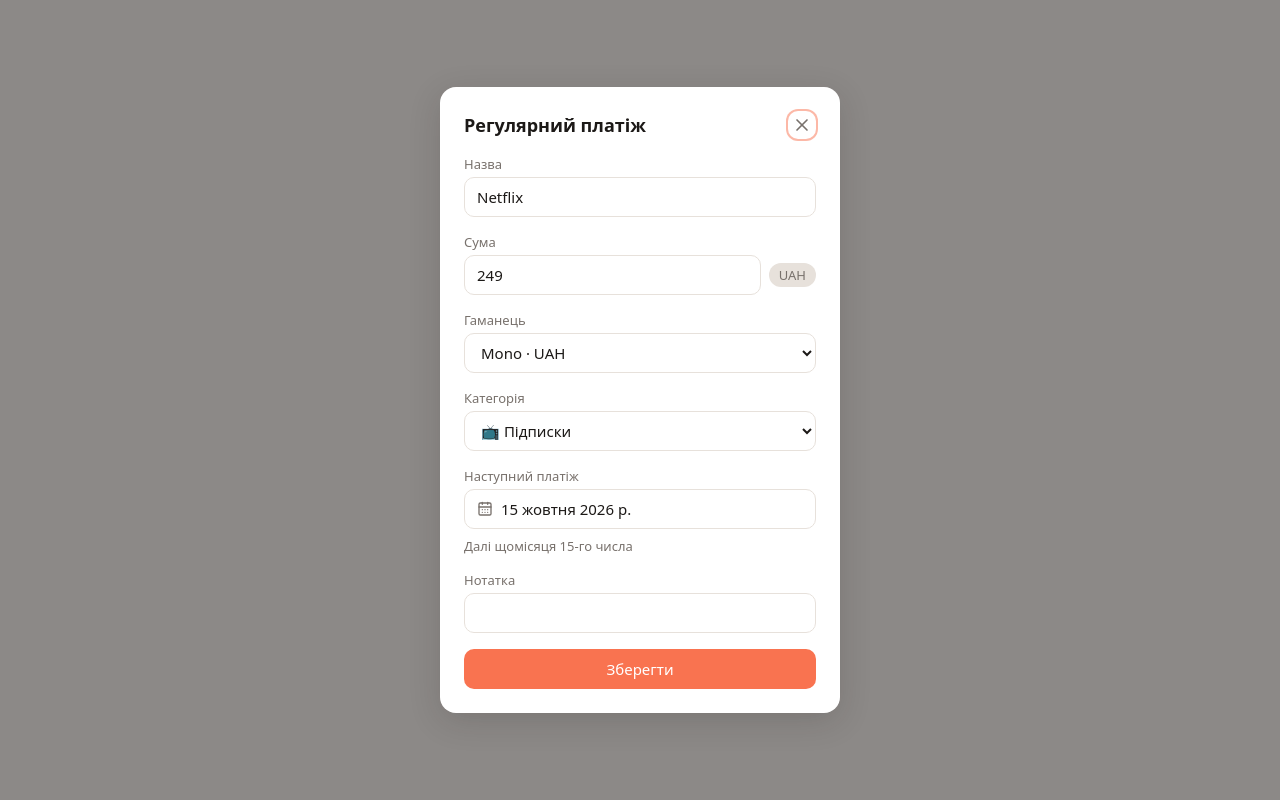
Test: RecurringDialog › offers any date from tomorrow, for an existing rule too
The width and height of the screenshot is (1280, 800).
Click the button with aria-label "Наступний платіж" at (566, 509), box [464, 489, 816, 529]
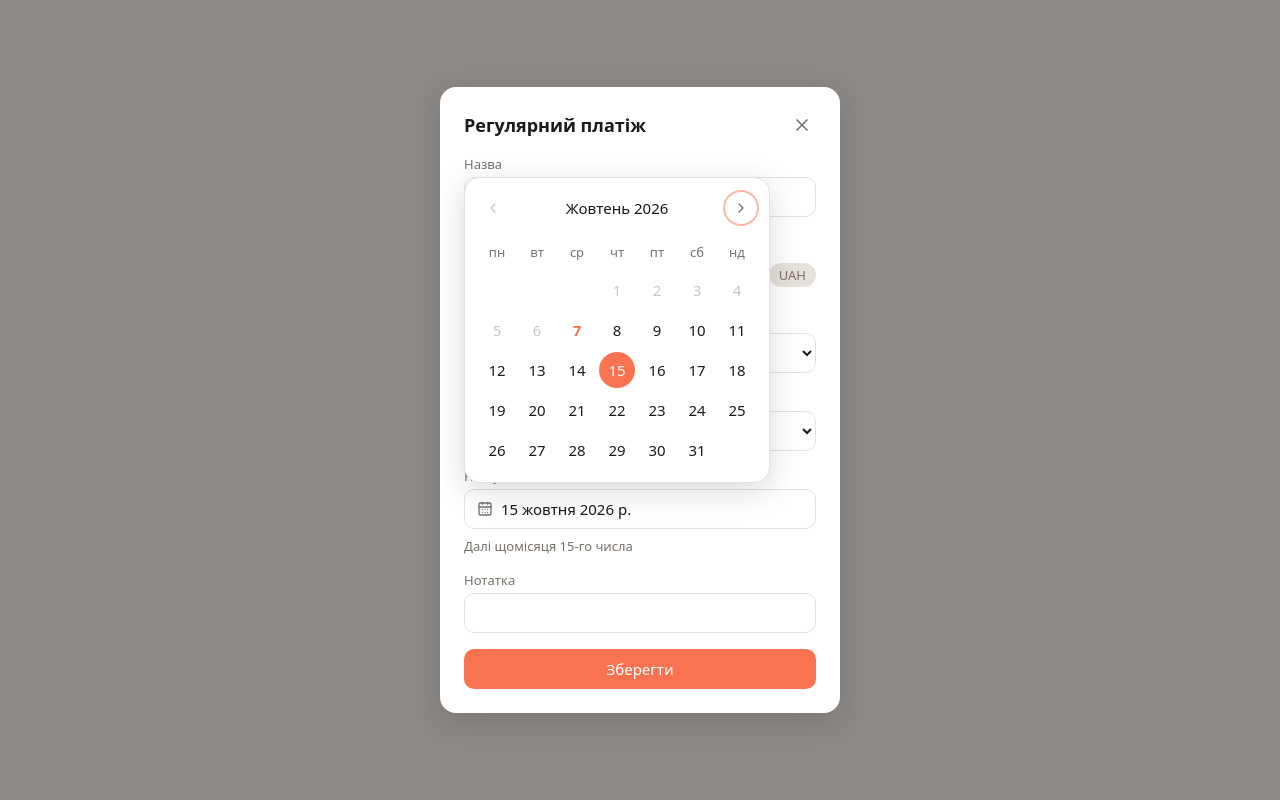
Now the button "7" is disabled, box [559, 312, 595, 348]
Now the button "8" is enabled, box [599, 312, 635, 348]
